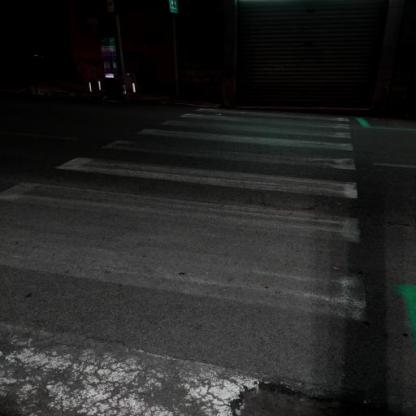crosswalk: (50, 136, 362, 208)
